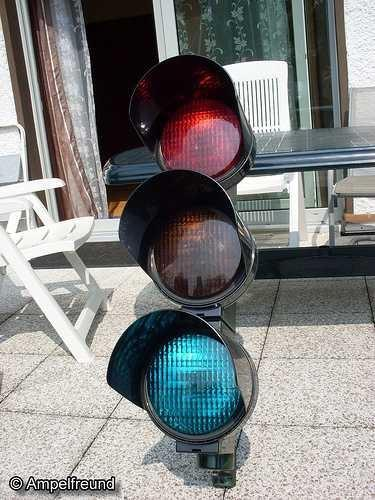red: (134, 61, 252, 186)
